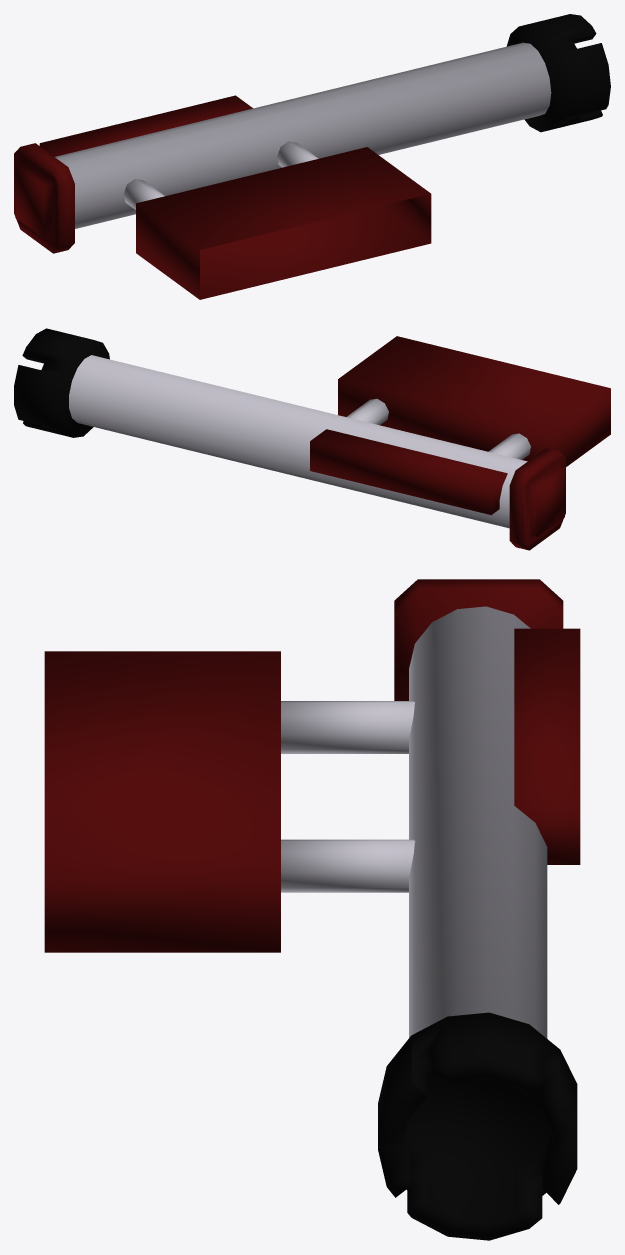
File: Debris2.fbx
3 views of the same model, one above another, from view 1: azimuth 30°, elevation 25°; view 2: azimuth 150°, elevation 25°; view 3: azimuth 270°, elevation 25° (orthographic). The views are drawn at different scales.
Parts seen in each view (by area): view 1: Guns.001; view 2: Guns.001; view 3: Guns.001.
Part boxes in pixels (left/top/right/bottom): Guns.001: left=14, top=14, right=610, bottom=299; Guns.001: left=14, top=328, right=610, bottom=550; Guns.001: left=44, top=579, right=580, bottom=1240.
Size of the model in its own units: 525 by 88.87 by 237.
